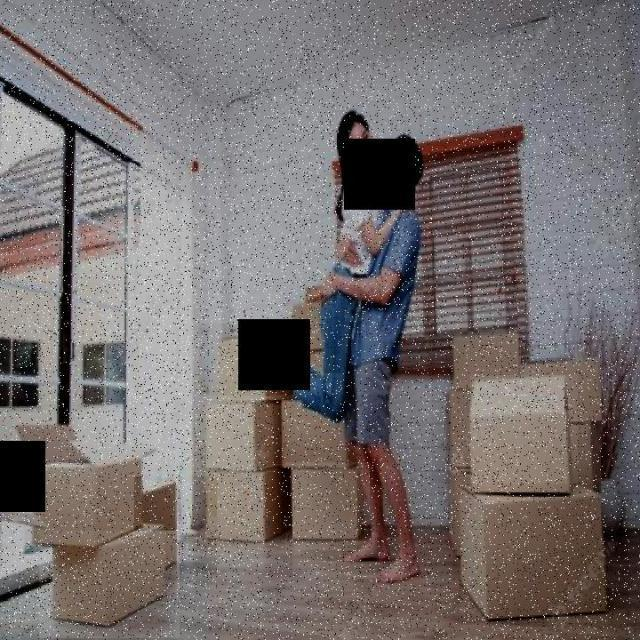box: (452, 484, 630, 621), (12, 412, 146, 552), (520, 348, 632, 511), (39, 530, 180, 638), (432, 331, 528, 484), (470, 375, 578, 505), (273, 394, 388, 486), (134, 476, 217, 574), (197, 464, 286, 554), (285, 462, 370, 550), (199, 324, 293, 399), (195, 396, 281, 472), (286, 294, 345, 374)
